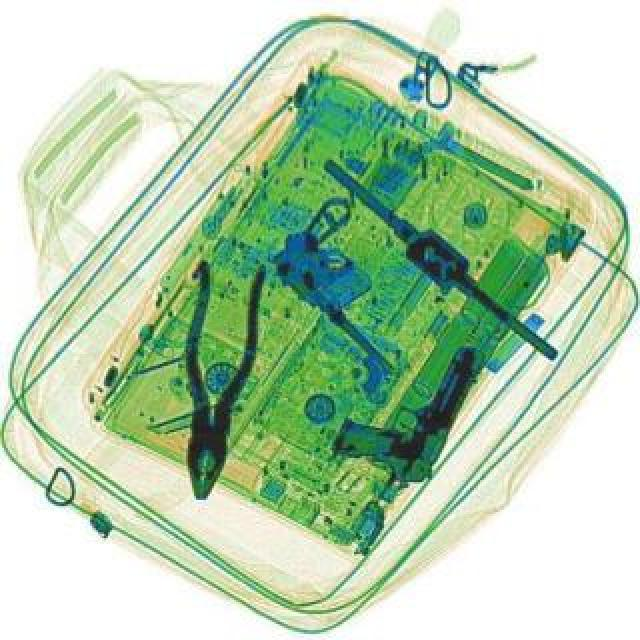gun: (256, 188, 460, 380), (326, 314, 486, 492)
wrench: (166, 256, 266, 502)
